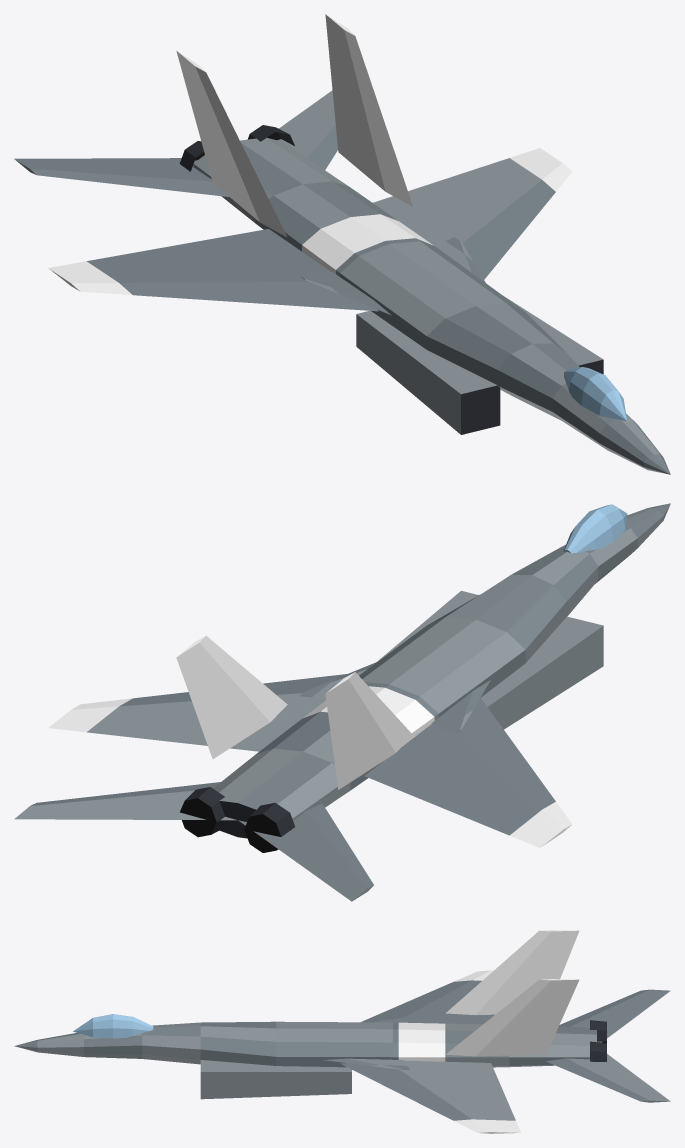
Rendered from mig29a_lod.glb.
The picture shows the model from 3 angles, top to bottom: view 1: azimuth 30°, elevation 25°; view 2: azimuth 150°, elevation 25°; view 3: azimuth 270°, elevation 25°; orthographic projection. The views are drawn at different scales.
Visible parts, largest first — view 1: body; view 2: body; view 3: body.
Boxes of the visible parts, bbox=[...] form: body: bbox=[14, 14, 670, 474]; body: bbox=[14, 503, 670, 901]; body: bbox=[14, 930, 670, 1133].
Size of the model in its own units: 11.36 by 3.96 by 19.52.
